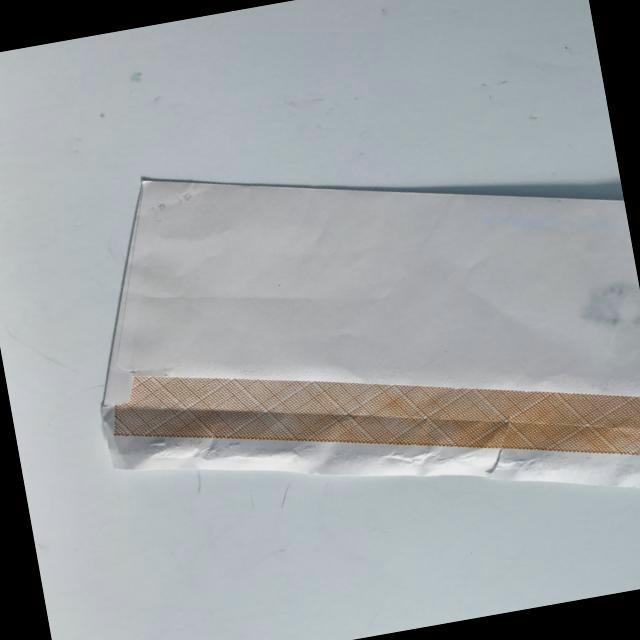paper: (27, 79, 640, 598)
